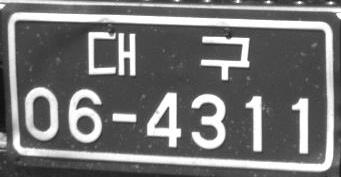0: (24, 84, 59, 141)
1: (285, 96, 317, 156), (239, 95, 272, 152)
3: (190, 92, 226, 149)
4: (146, 91, 181, 148)
6: (66, 87, 102, 144)
대구_D: (87, 31, 250, 80)
